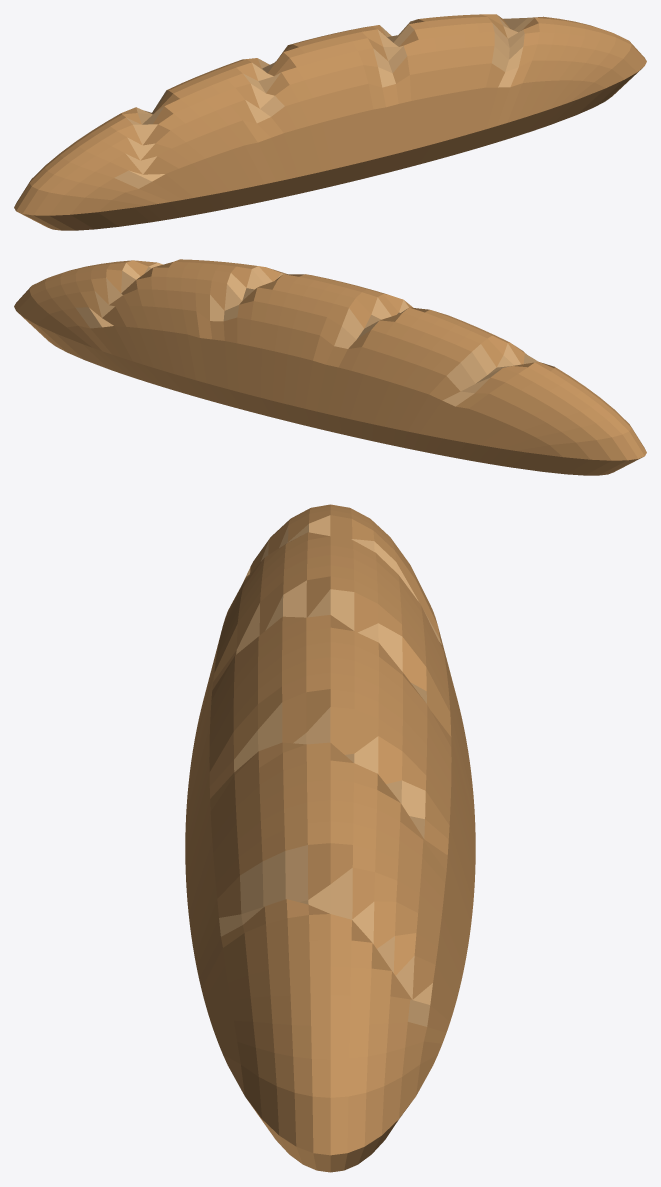
3 views of the same model, one above another, from view 1: azimuth 30°, elevation 25°; view 2: azimuth 150°, elevation 25°; view 3: azimuth 270°, elevation 25° (orthographic). The views are drawn at different scales.
Parts seen in each view (by area): view 1: Long scored baguette; view 2: Long scored baguette; view 3: Long scored baguette.
Boxes of the visible parts, bbox=[...] form: Long scored baguette: bbox=[14, 14, 646, 230]; Long scored baguette: bbox=[14, 259, 646, 475]; Long scored baguette: bbox=[185, 504, 475, 1172].
Bounding box in the file's own units: 0.55 × 0.1 × 0.11.
